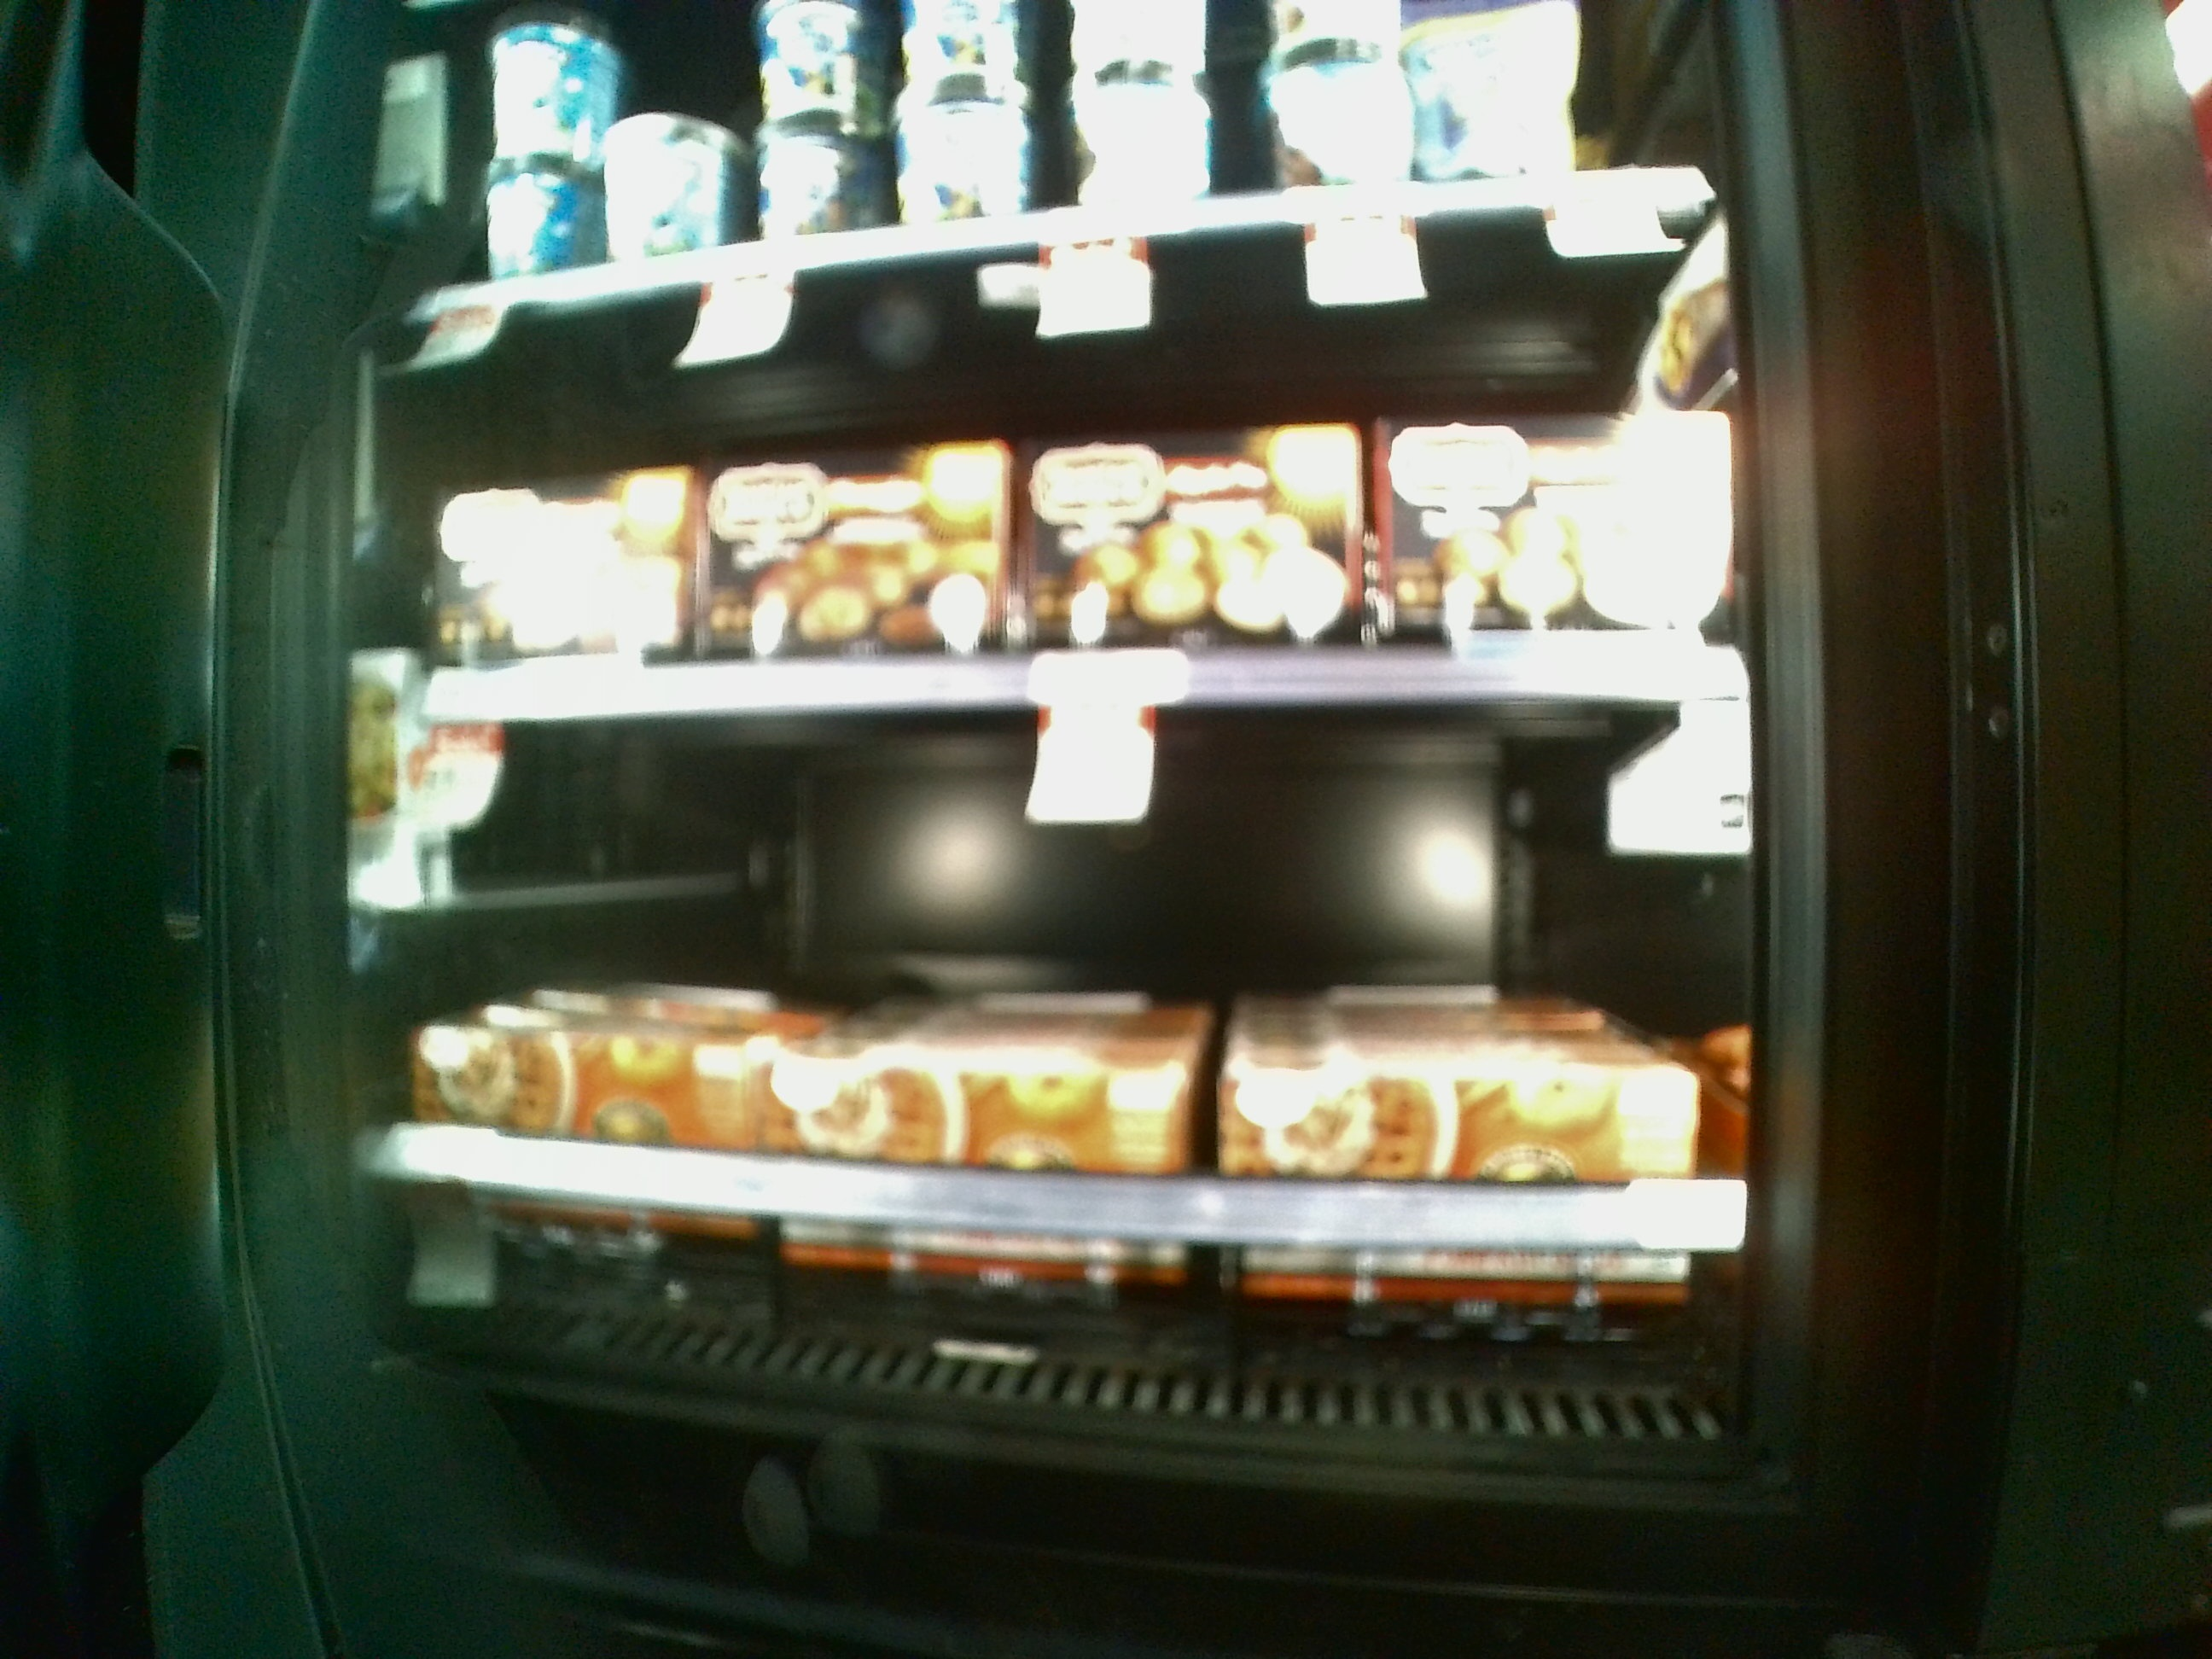shelf: (383, 706, 1743, 1476), (383, 284, 1764, 716)
